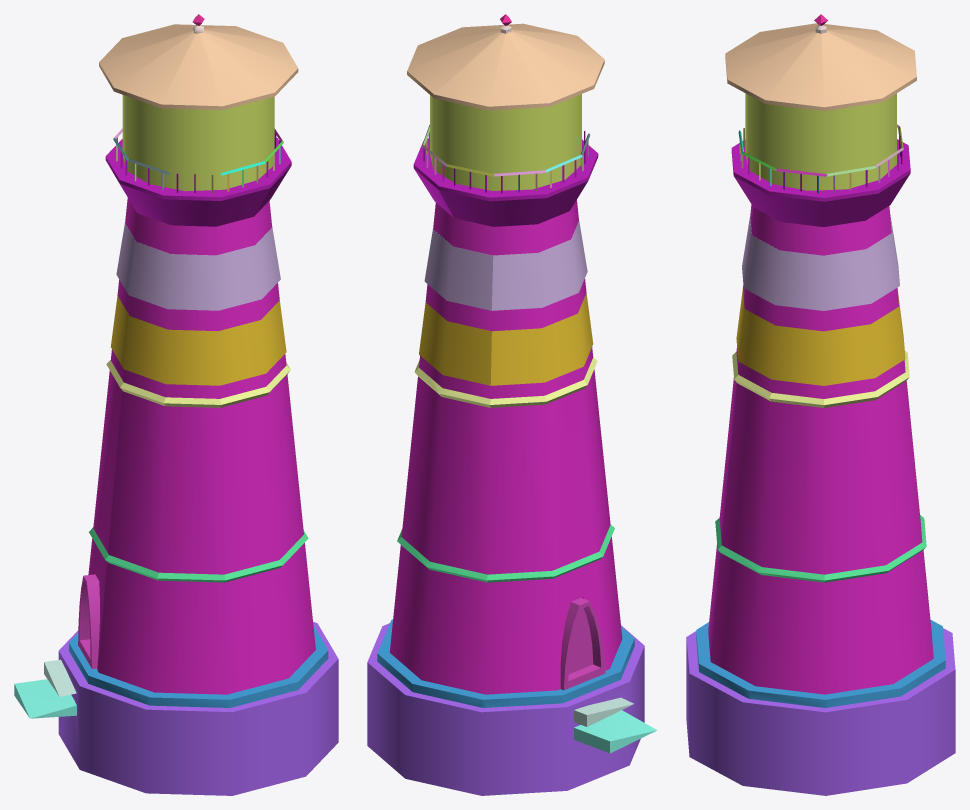
3 views of the same model, side by side, from view 1: azimuth 30°, elevation 25°; view 2: azimuth 150°, elevation 25°; view 3: azimuth 270°, elevation 25° (orthographic).
Parts seen in each view (by area): view 1: Boole_1_Mat.1_0, Stairs_1_Mat.1_0, Sphere_1_Mat.1_0.011, Tube_Glass_0, split_parent_37, split_parent_38, split_parent_4, Stairs_1_Mat.1_0.003, split_parent_39, split_parent_36, Stairs_1_Mat.1_0.012, Door_Mat.1_0 (+1 smaller); view 2: Boole_1_Mat.1_0, Stairs_1_Mat.1_0, Sphere_1_Mat.1_0.011, Tube_Glass_0, split_parent_37, split_parent_38, split_parent_4, Stairs_1_Mat.1_0.003, Door_Mat.1_0, Stairs_1_Mat.1_0.012, split_parent_39, split_parent_36 (+1 smaller); view 3: Boole_1_Mat.1_0, Stairs_1_Mat.1_0, Sphere_1_Mat.1_0.011, Tube_Glass_0, split_parent_37, split_parent_38, split_parent_4, Stairs_1_Mat.1_0.003, split_parent_39, split_parent_36.
Boxes of the visible parts, x1,y1,x2,y2 form: Boole_1_Mat.1_0: [88, 197, 315, 694]; Stairs_1_Mat.1_0: [58, 622, 338, 795]; Sphere_1_Mat.1_0.011: [99, 24, 298, 110]; Tube_Glass_0: [122, 95, 274, 191]; split_parent_37: [110, 295, 286, 385]; split_parent_38: [116, 223, 280, 310]; split_parent_4: [105, 133, 291, 226]; Stairs_1_Mat.1_0.003: [69, 625, 328, 707]; split_parent_39: [89, 527, 308, 582]; split_parent_36: [106, 360, 290, 407]; Stairs_1_Mat.1_0.012: [14, 679, 76, 718]; Door_Mat.1_0: [78, 574, 99, 668]; Boole_1_Mat.1_0: [389, 200, 622, 694]; Stairs_1_Mat.1_0: [367, 623, 644, 795]; Sphere_1_Mat.1_0.011: [407, 23, 604, 110]; Tube_Glass_0: [430, 94, 581, 190]; split_parent_37: [419, 293, 593, 385]; split_parent_38: [424, 220, 587, 310]; split_parent_4: [413, 131, 598, 226]; Stairs_1_Mat.1_0.003: [377, 619, 634, 707]; Door_Mat.1_0: [560, 597, 605, 690]; Stairs_1_Mat.1_0.012: [574, 710, 657, 753]; split_parent_39: [397, 525, 614, 582]; split_parent_36: [414, 357, 597, 407]; Boole_1_Mat.1_0: [708, 204, 933, 694]; Stairs_1_Mat.1_0: [686, 628, 955, 795]; Sphere_1_Mat.1_0.011: [725, 23, 916, 110]; Tube_Glass_0: [745, 93, 896, 190]; split_parent_37: [736, 289, 905, 385]; split_parent_38: [742, 215, 899, 310]; split_parent_4: [731, 136, 910, 226]; Stairs_1_Mat.1_0.003: [696, 619, 945, 707]; split_parent_39: [715, 515, 926, 582]; split_parent_36: [732, 350, 909, 407].
Size of the model in its own units: 0.4067 by 1 by 0.3373.
